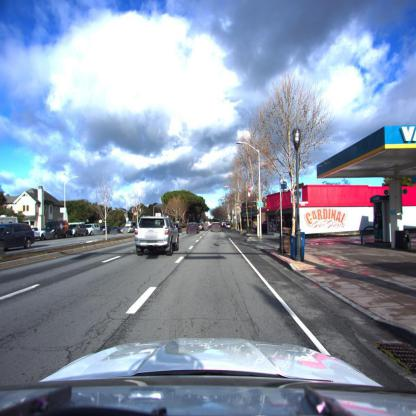car: (2, 334, 416, 416), (134, 216, 180, 257), (0, 222, 36, 252), (41, 222, 67, 241), (68, 224, 94, 238), (86, 222, 100, 235), (210, 221, 222, 235), (100, 224, 110, 236), (111, 226, 122, 235), (188, 223, 198, 232), (224, 224, 232, 230)
sign: (256, 200, 264, 207)
